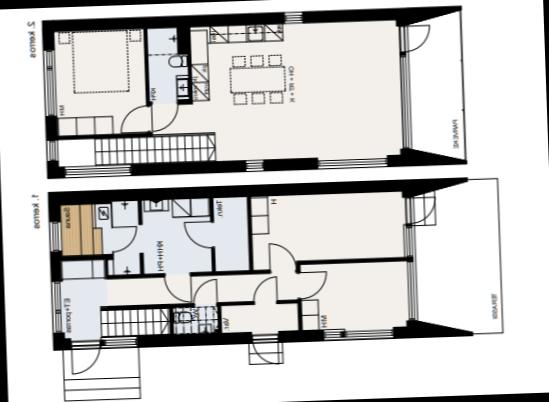door: (391, 21, 432, 57), (67, 339, 103, 376), (146, 98, 182, 134), (116, 104, 152, 138), (292, 268, 328, 302), (400, 194, 436, 227), (264, 241, 299, 274), (248, 334, 280, 367), (248, 275, 280, 307), (188, 277, 219, 309), (182, 219, 214, 250), (108, 224, 139, 256), (162, 273, 192, 303)
window: (394, 53, 414, 152), (36, 45, 60, 124), (312, 152, 388, 176), (58, 160, 134, 181), (402, 257, 420, 324), (341, 324, 395, 346), (46, 278, 64, 338), (98, 333, 138, 354), (44, 217, 66, 255), (402, 225, 419, 260), (40, 138, 60, 166), (240, 156, 266, 176), (320, 326, 344, 346), (278, 10, 306, 27)
